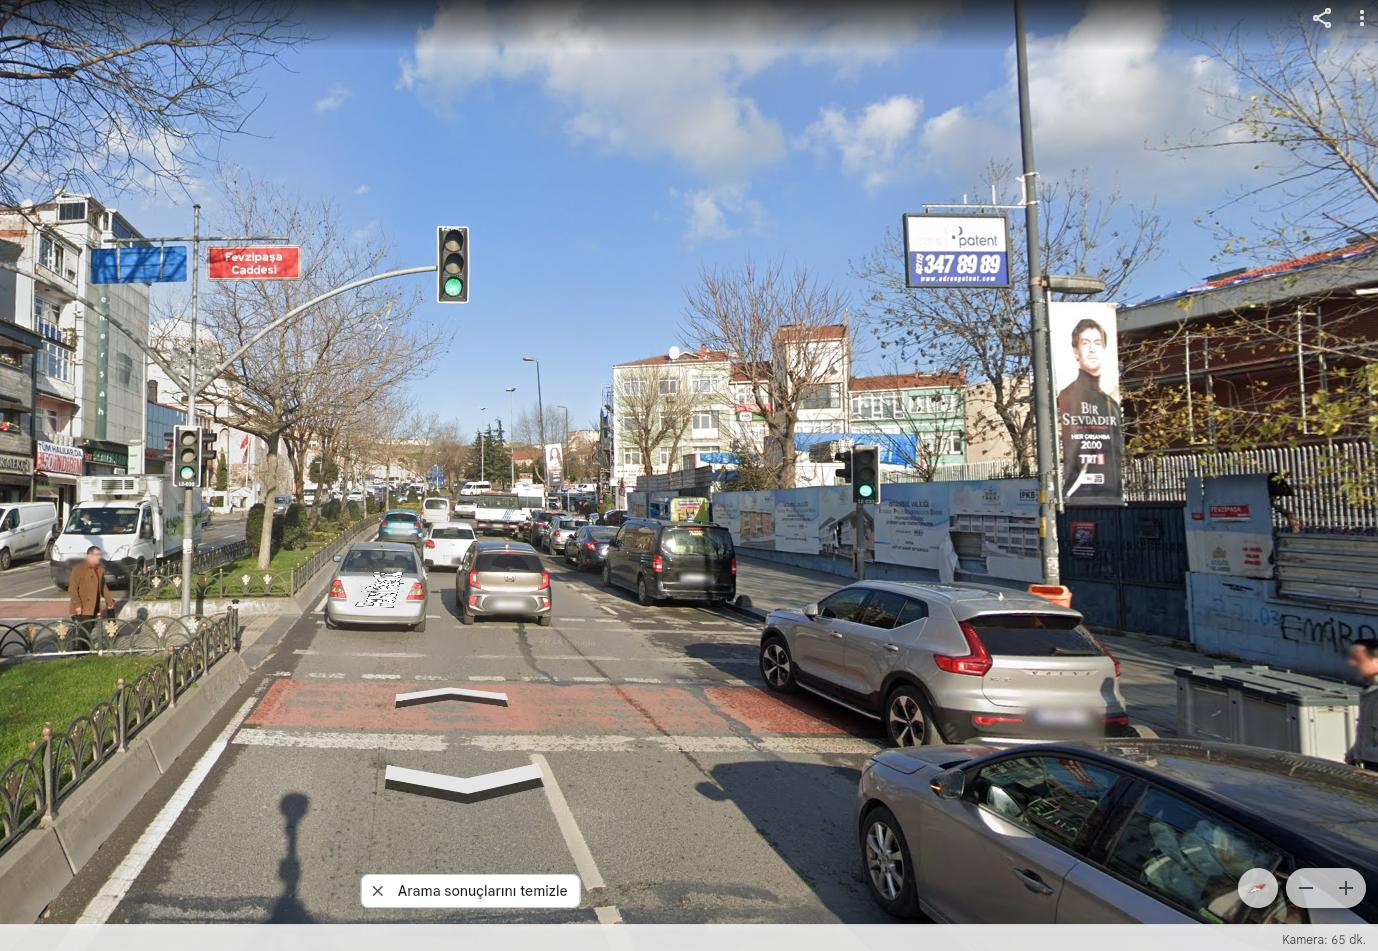greenlight: (439, 226, 466, 295), (176, 425, 195, 482), (854, 446, 874, 499)
